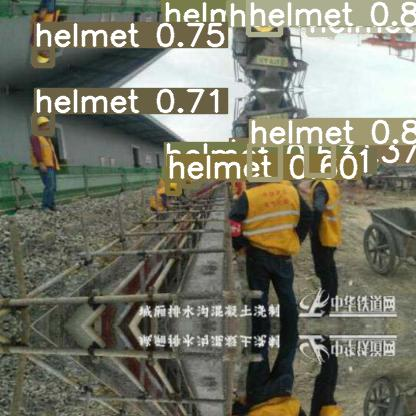helmet: (248, 0, 280, 34), (249, 144, 280, 179), (306, 143, 333, 175), (308, 7, 334, 34), (34, 113, 52, 133), (34, 47, 52, 65), (273, 1, 290, 18), (229, 163, 243, 179), (228, 1, 244, 15), (183, 173, 198, 186), (312, 0, 338, 7), (164, 167, 177, 180), (167, 179, 179, 193), (163, 0, 178, 11), (183, 0, 197, 4)
